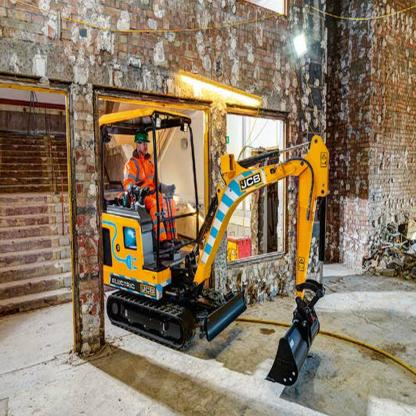excavator: (93, 93, 347, 396)
